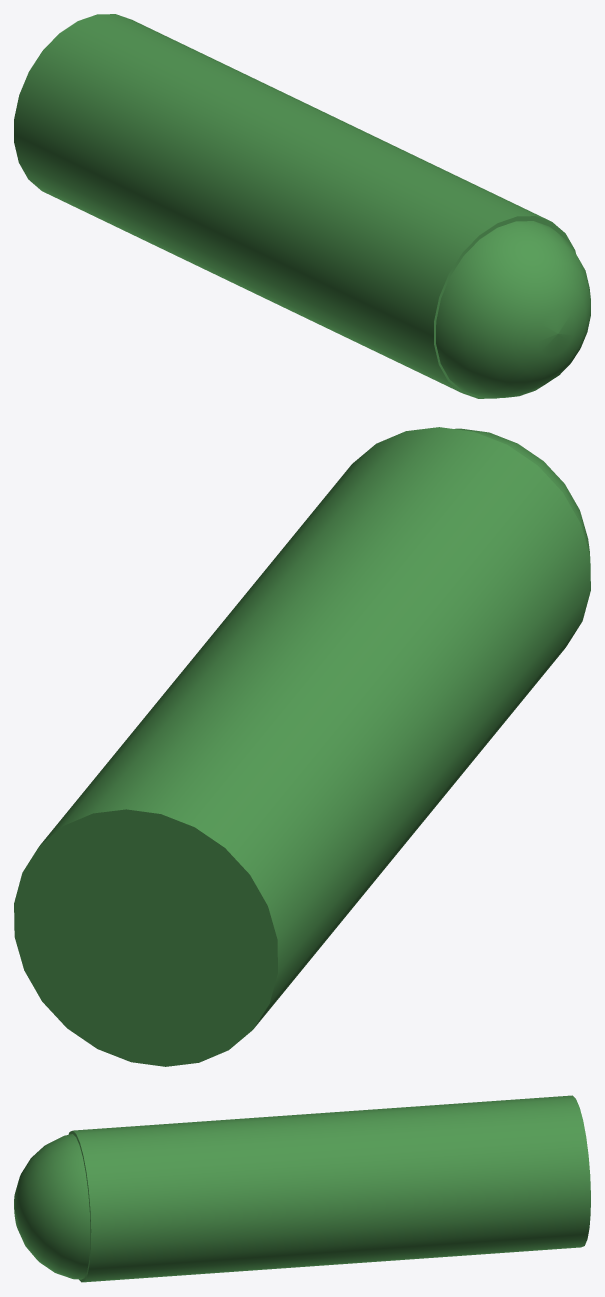
The model's file is FingerNrm1.dae.
The picture shows the model from 3 angles, top to bottom: view 1: azimuth 30°, elevation 25°; view 2: azimuth 150°, elevation 25°; view 3: azimuth 270°, elevation 25°; orthographic projection. The views are drawn at different scales.
Parts seen in each view (by area): view 1: group_0 (×3); view 2: group_0 (×3); view 3: group_0 (×3).
Part boxes in pixels (bbox=[...]): group_0 (×3): bbox=[14, 14, 590, 398]; group_0 (×3): bbox=[14, 427, 590, 1066]; group_0 (×3): bbox=[14, 1095, 590, 1282].
Size of the model in its own units: 7.5 by 17.87 by 4.84.
